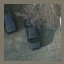car: (26, 25, 41, 49), (4, 10, 17, 34)
